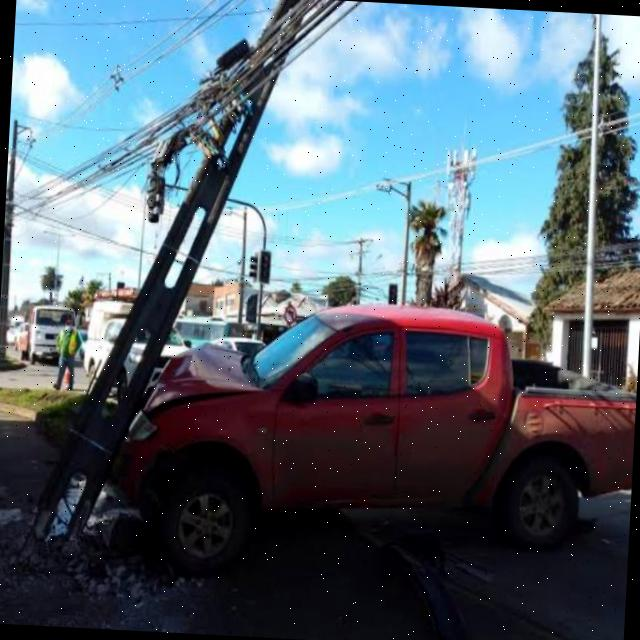Broken Pole: (28, 0, 310, 543)
